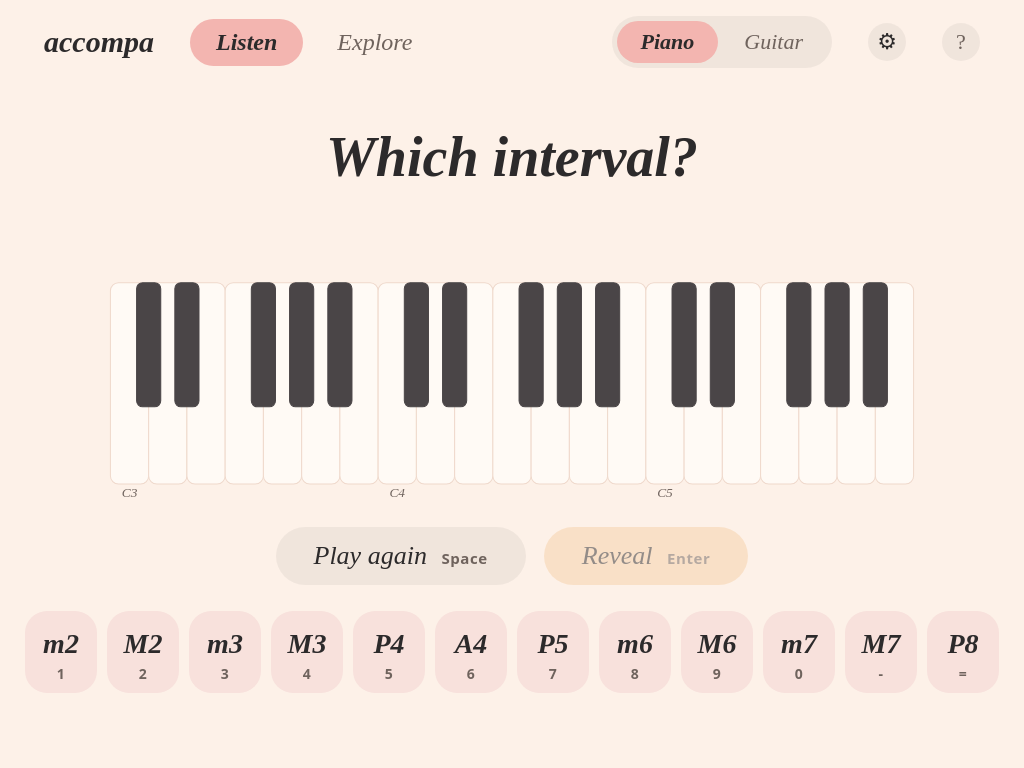
chord reveal in the app › Next draws and plays a new chord, unlit, button Reveal
The image size is (1024, 768).
Click the button named "Setup" at (887, 42), box [868,23,906,61]
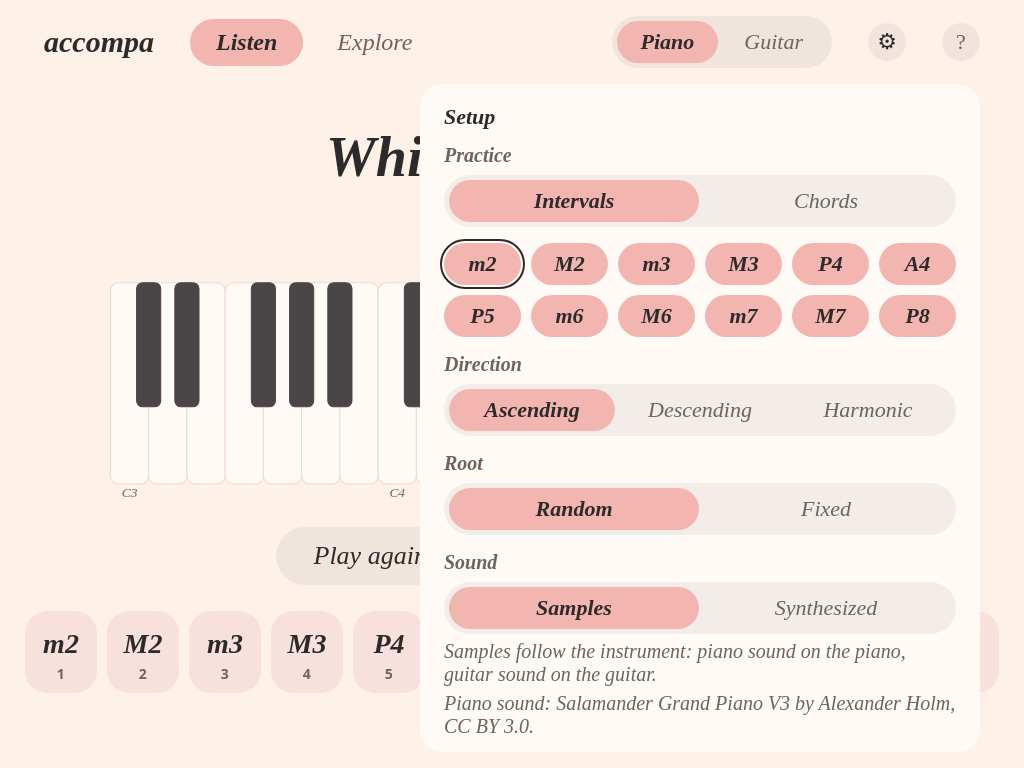
Click the radio button labelled "Chords" at (826, 200), box [794,188,858,213]
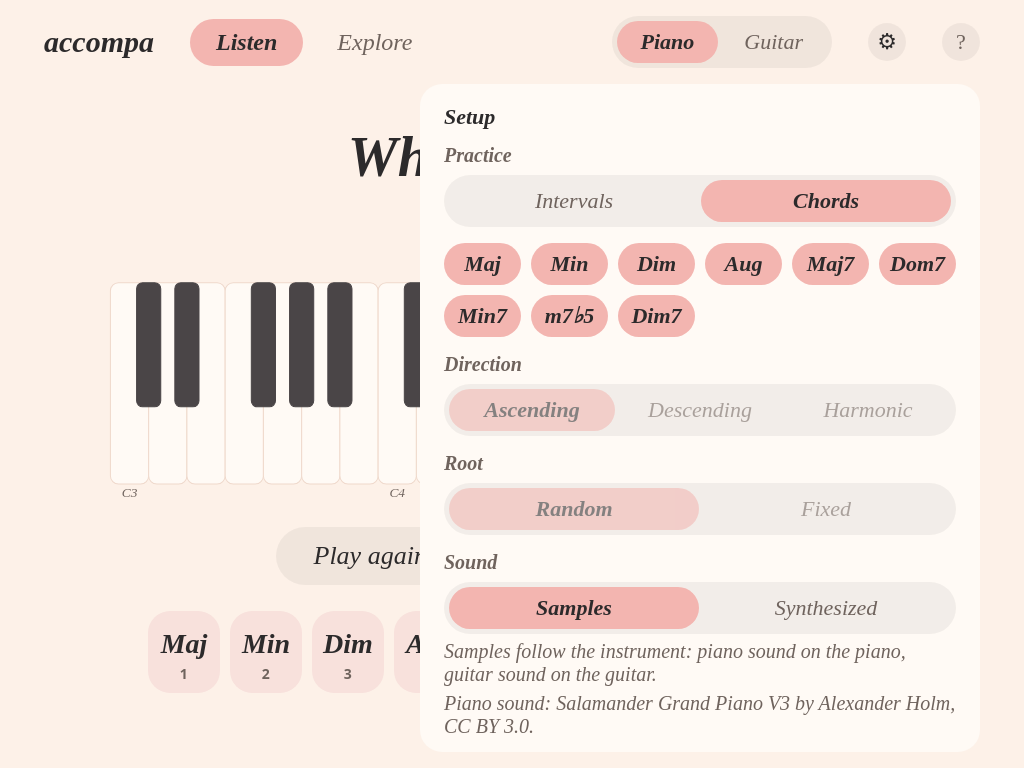
Click the button named "Setup" at (887, 42), box [868,23,906,61]
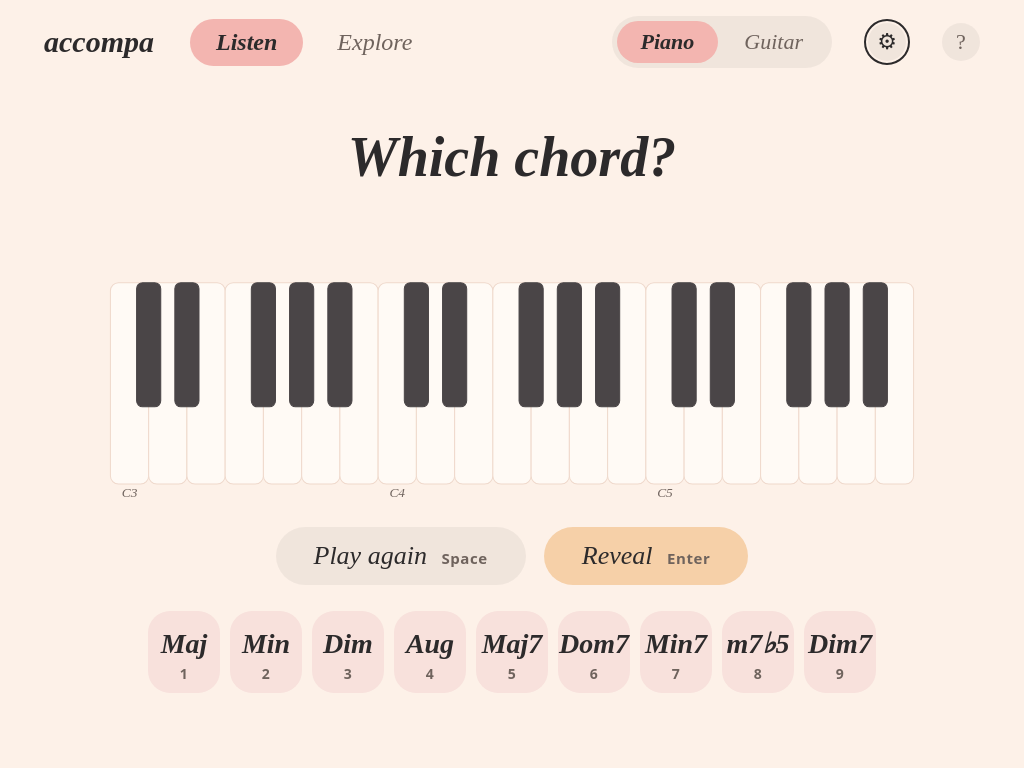
Press Enter
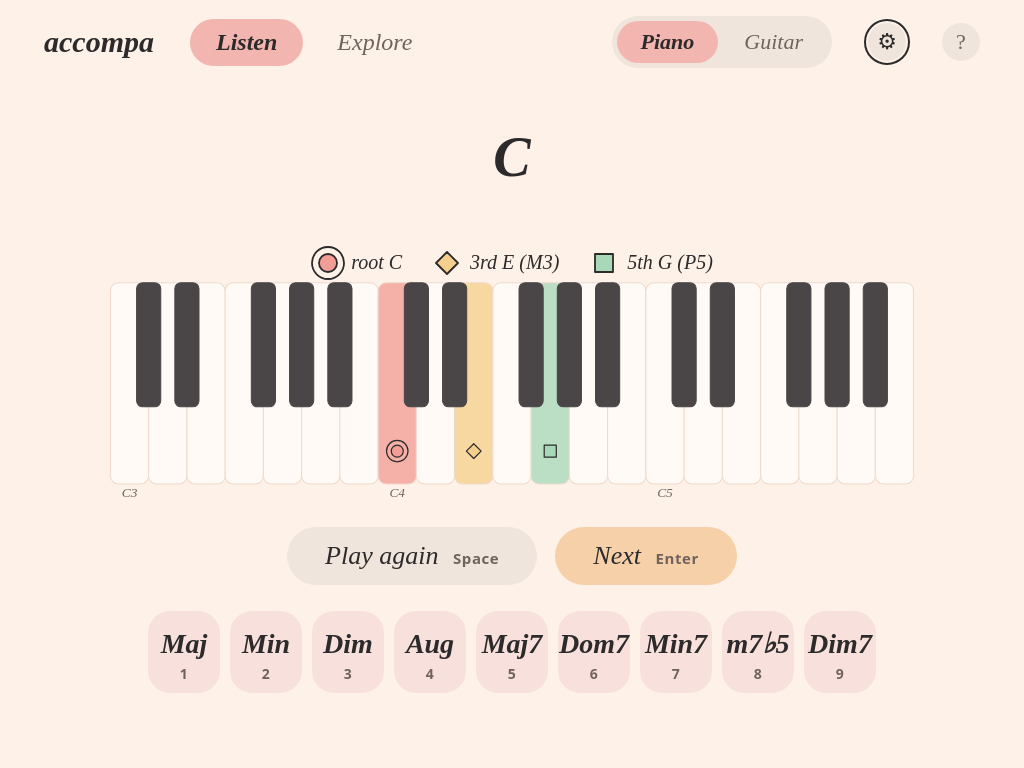
Press Enter
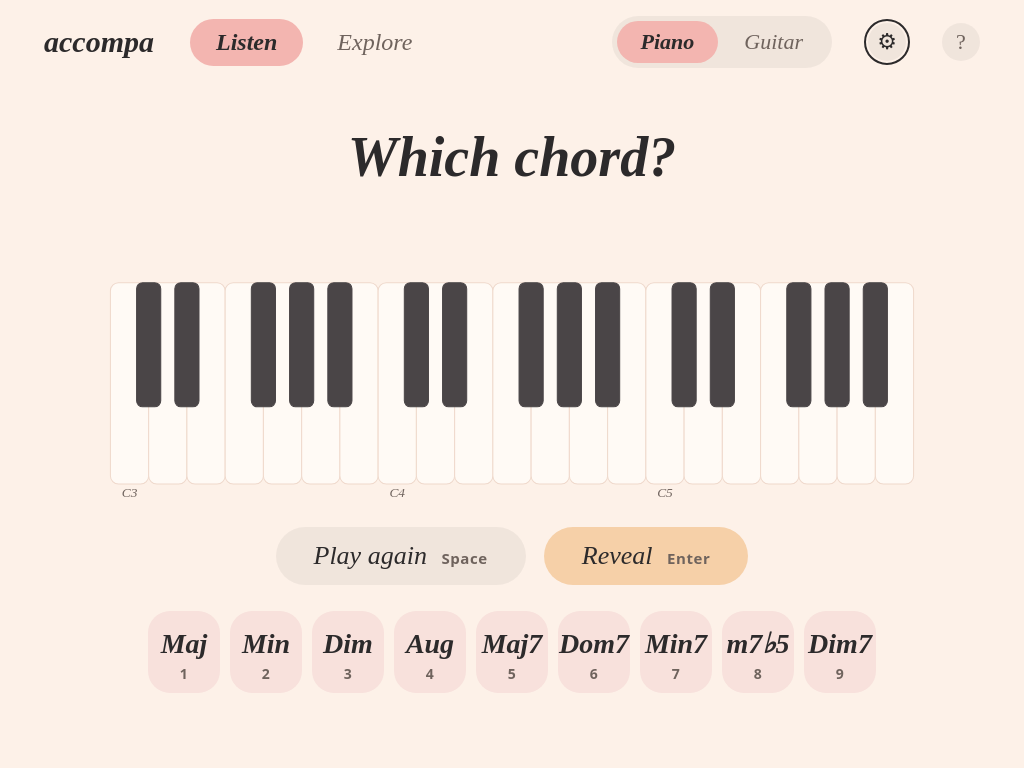
Now the button "Reveal Enter" is shown, box [544,527,748,585]
